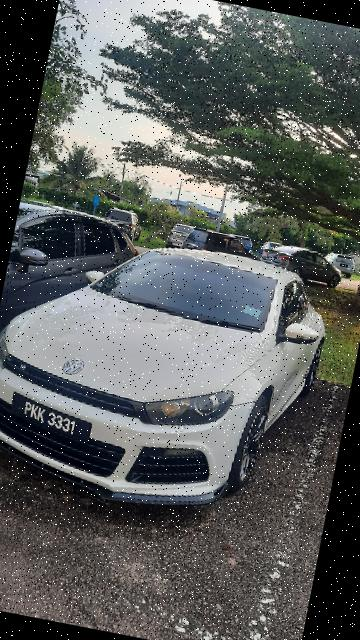License_Plate: (8, 392, 102, 452)
car: (1, 209, 349, 544)
